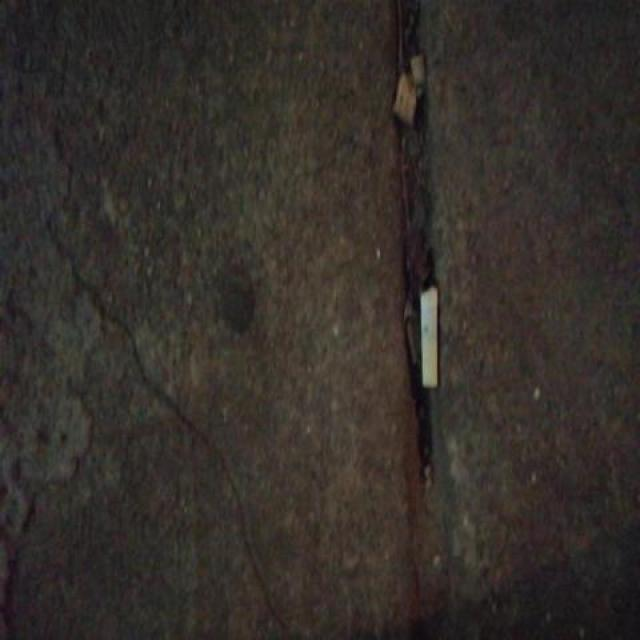non-organic waste: (415, 280, 442, 391)
